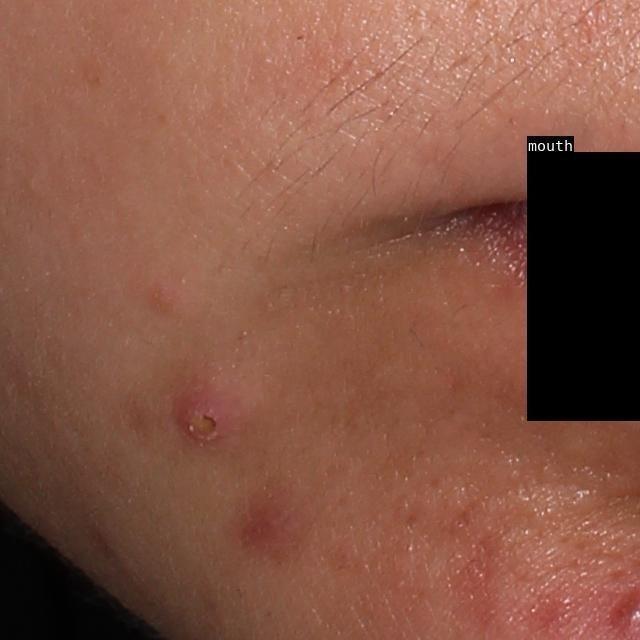papule: (170, 381, 245, 459), (136, 279, 182, 319)
